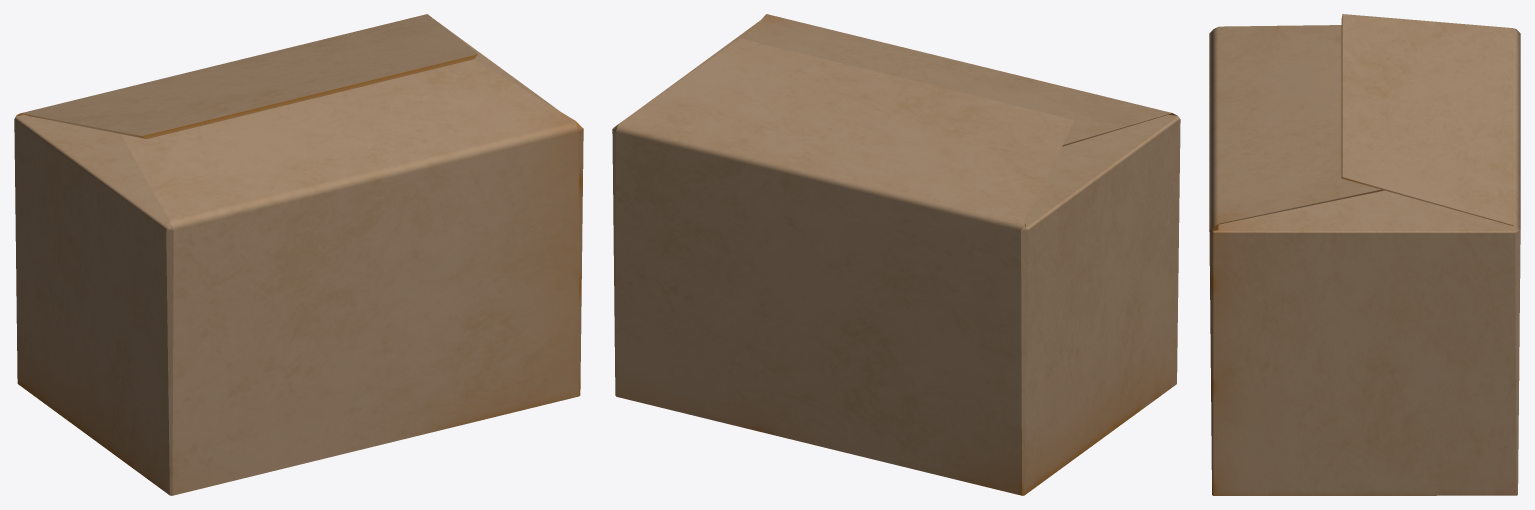
The model's file is cardboard_close160.fbx.
3 renders of one model, left to right at view 1: azimuth 30°, elevation 25°; view 2: azimuth 150°, elevation 25°; view 3: azimuth 270°, elevation 25°, orthographic.
Visible parts, largest first — view 1: close160; view 2: close160; view 3: close160.
Boxes of the visible parts, x1,y1,x2,y2 form: close160: (14, 14, 583, 495); close160: (612, 14, 1180, 495); close160: (1209, 14, 1520, 495).
Bounding box in the file's own units: 70.74 × 49.19 × 46.
